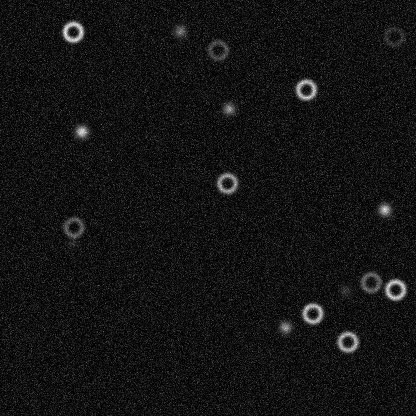Ring: (335, 329, 359, 353), (382, 24, 406, 48), (61, 215, 85, 239), (383, 277, 407, 301), (300, 301, 324, 325), (205, 38, 229, 62), (293, 77, 317, 101), (215, 171, 239, 195), (60, 19, 84, 43), (358, 270, 382, 294)
Spot: (337, 282, 353, 298), (171, 22, 187, 38), (73, 123, 89, 139), (376, 201, 392, 217), (277, 319, 293, 335), (63, 234, 79, 250), (220, 100, 236, 116)
